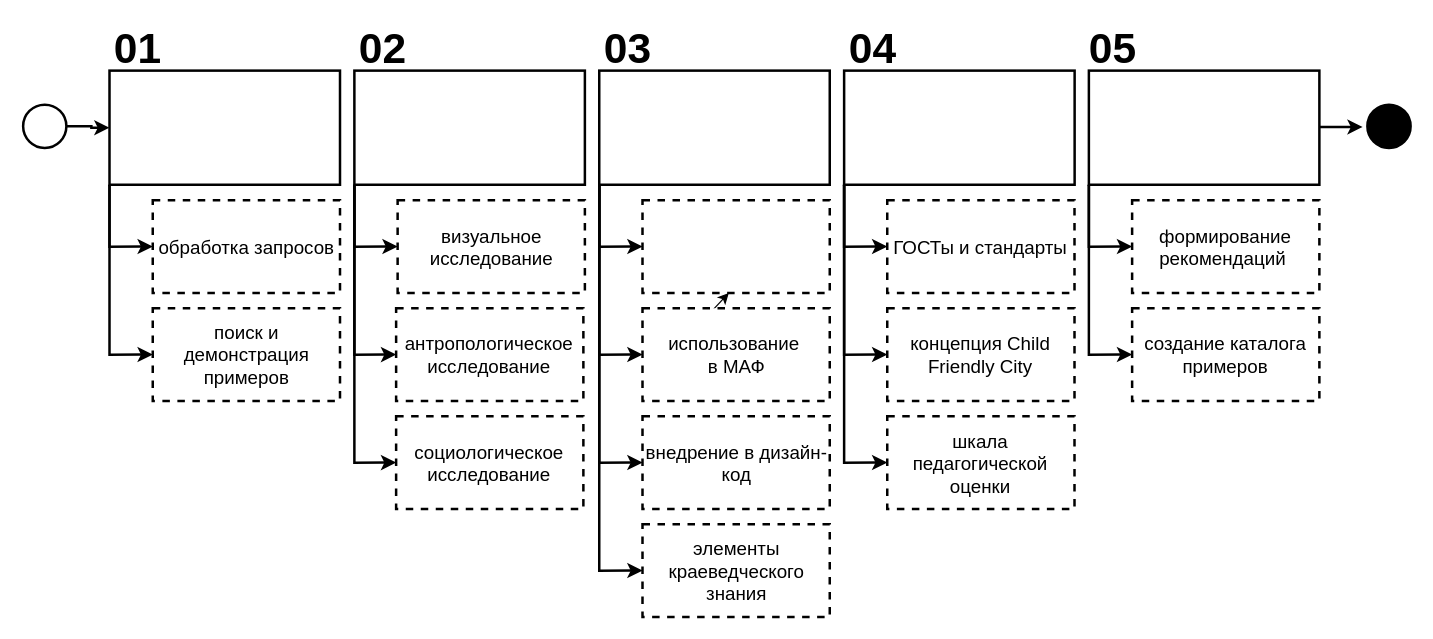
Some shapes in this 1433 by 639 pixel diagram are drawn without their labels. The shapes that lost their labels are listed below. From the top down, each one's box as (x1, y1, x2, y2) in pixels, then its label:
(108, 69, 341, 185): изучение запроса на интерес к отражению идентичности в проекте
(352, 69, 586, 185): исследование: поиск идентичности
(597, 69, 830, 185): предложение: поиск возможных сценариев
(842, 69, 1075, 185): проектирование: проверка на соответствие качеству
(1087, 69, 1320, 185): систематизация
(641, 198, 830, 294): использование в формах
